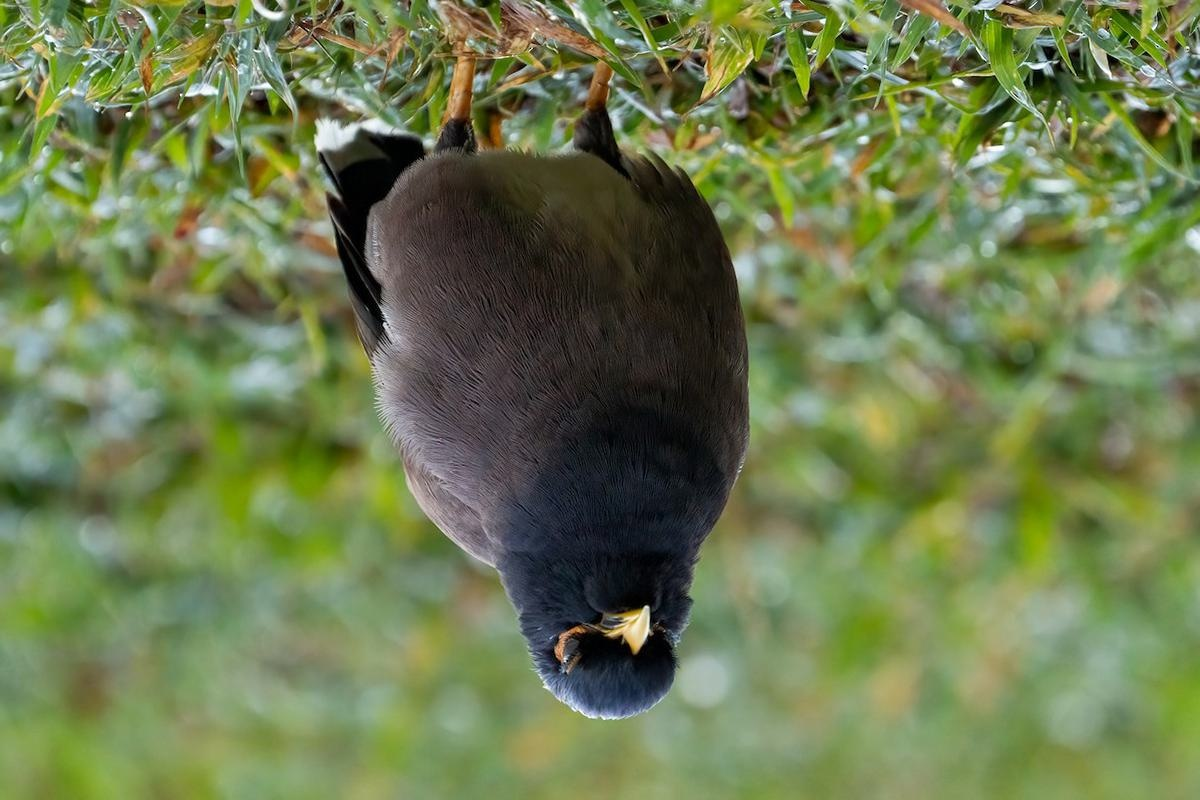myna: (339, 61, 749, 708)
